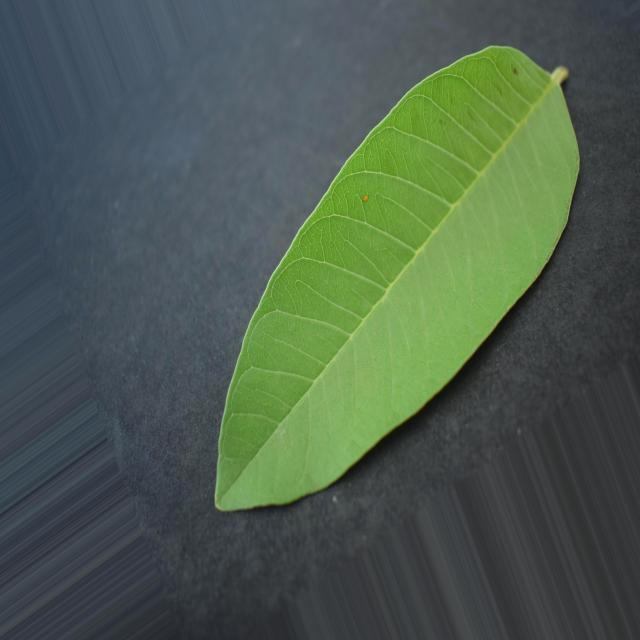Healthy: (215, 47, 579, 510)
